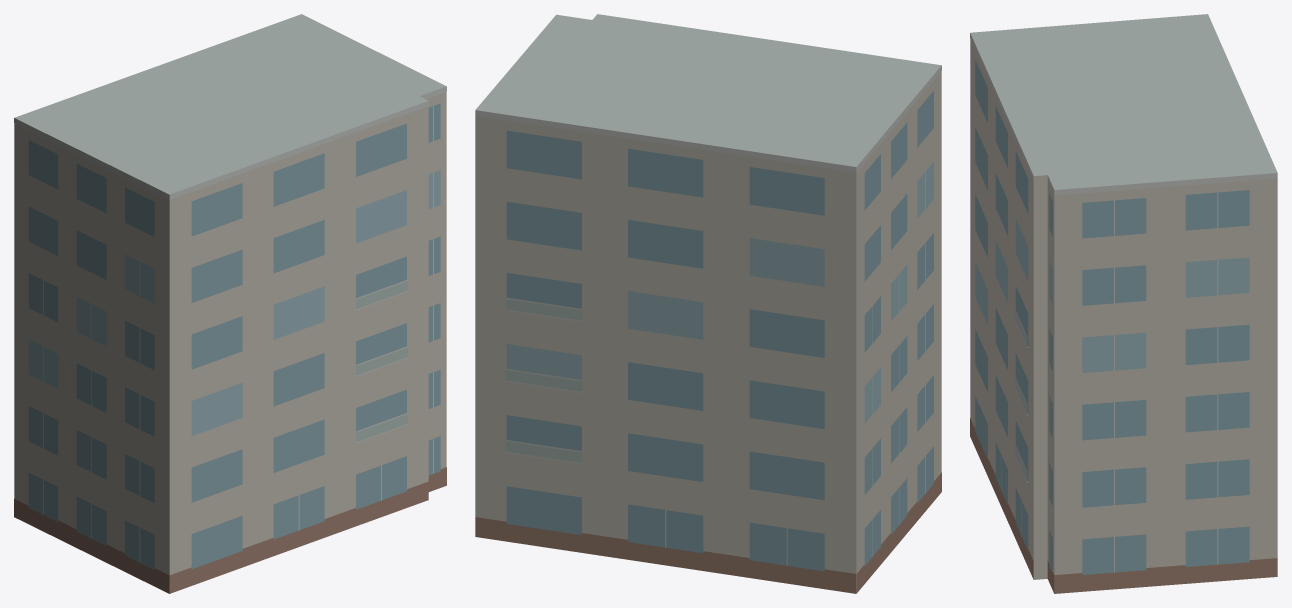
The model's file is survey-upis-32832579.glb.
3 renders of one model, left to right at view 1: azimuth 30°, elevation 25°; view 2: azimuth 150°, elevation 25°; view 3: azimuth 270°, elevation 25°, orthographic. The views are drawn at different scales.
Visible parts, largest first — view 1: survey-upis-32832579.tmp; view 2: survey-upis-32832579.tmp; view 3: survey-upis-32832579.tmp.
Boxes of the visible parts, <box> form: survey-upis-32832579.tmp: <box>14,14,446,593</box>; survey-upis-32832579.tmp: <box>475,14,941,593</box>; survey-upis-32832579.tmp: <box>970,14,1277,593</box>.
Bounding box in the file's own units: 17.12 × 18.3 × 12.64.
